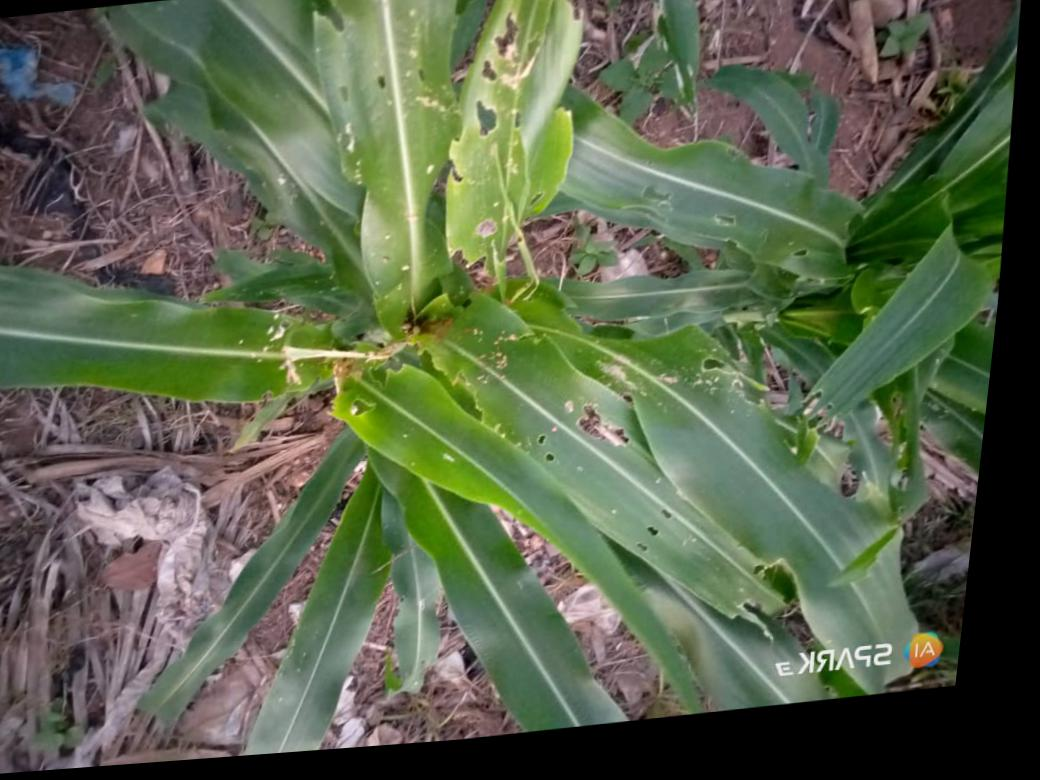early_to_moderate: (244, 295, 400, 418), (362, 1, 479, 157), (470, 34, 569, 153), (454, 296, 567, 390)
severe: (655, 289, 909, 489), (404, 0, 577, 173), (343, 316, 525, 465), (697, 507, 885, 651), (453, 220, 573, 318), (255, 0, 363, 100), (509, 421, 600, 492), (582, 385, 668, 448)
